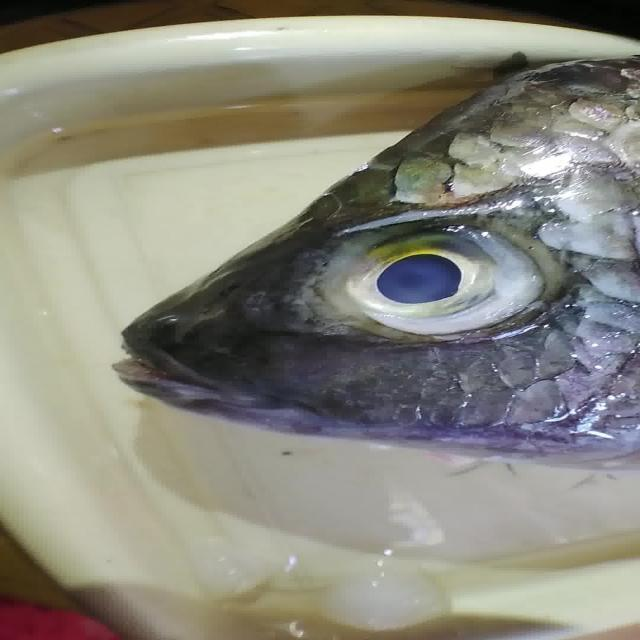Fresh: (302, 209, 587, 370)
